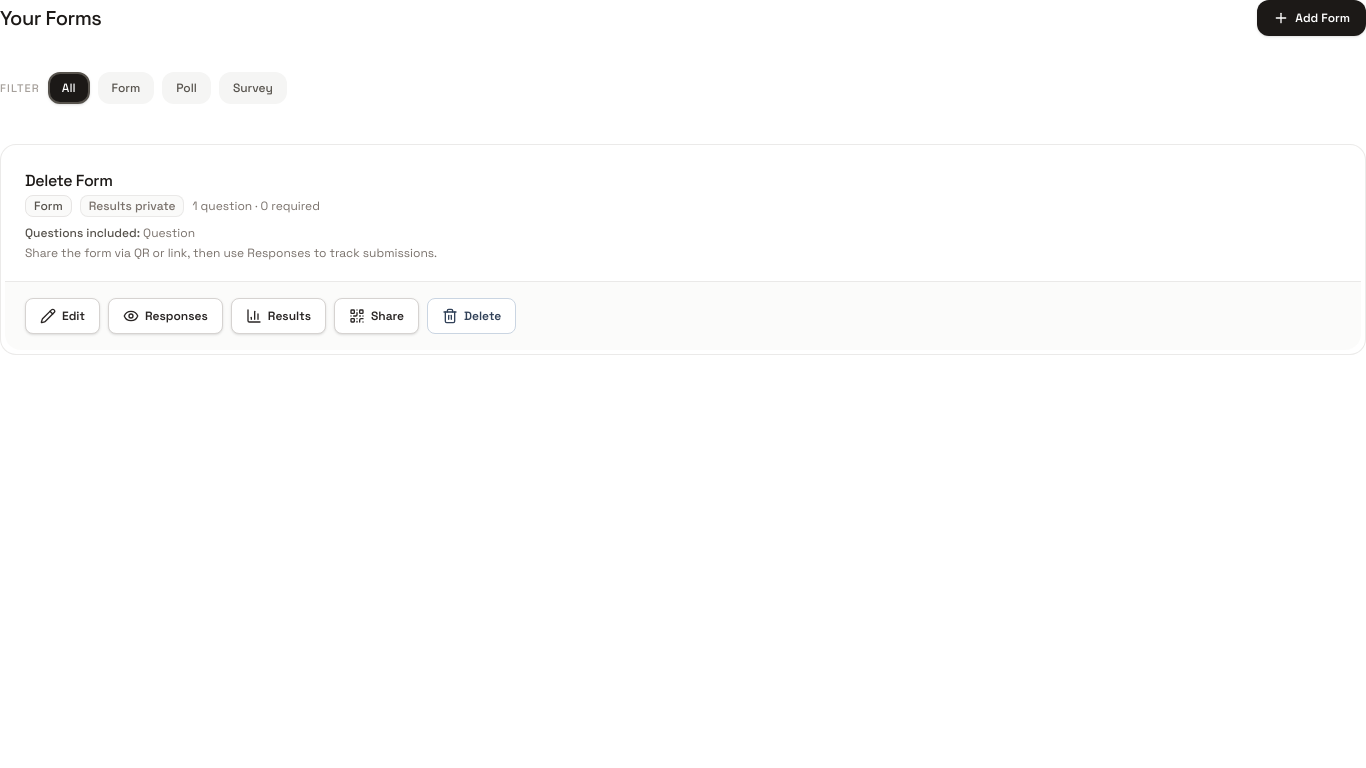
Test case: FormsPage › Delete button opens modal and deletes form on confirm
Expected: the text "Delete Form" is shown, [25,170,112,191]
Click the button "Delete" at (472, 316), box [427,298,516,334]
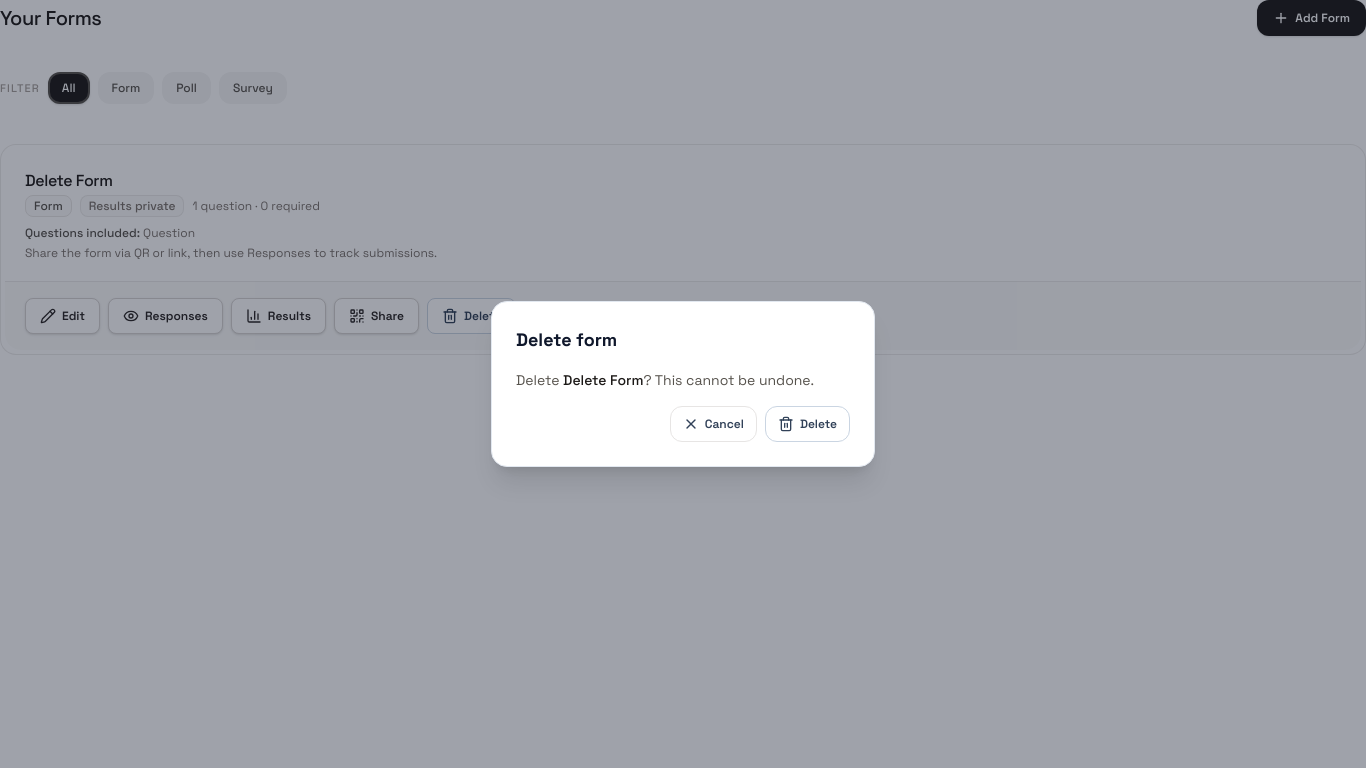
Now the dialog shows "Delete form", box [516,328,617,351]
Click the button "Delete" at (807, 424), box [765,406,850,442]
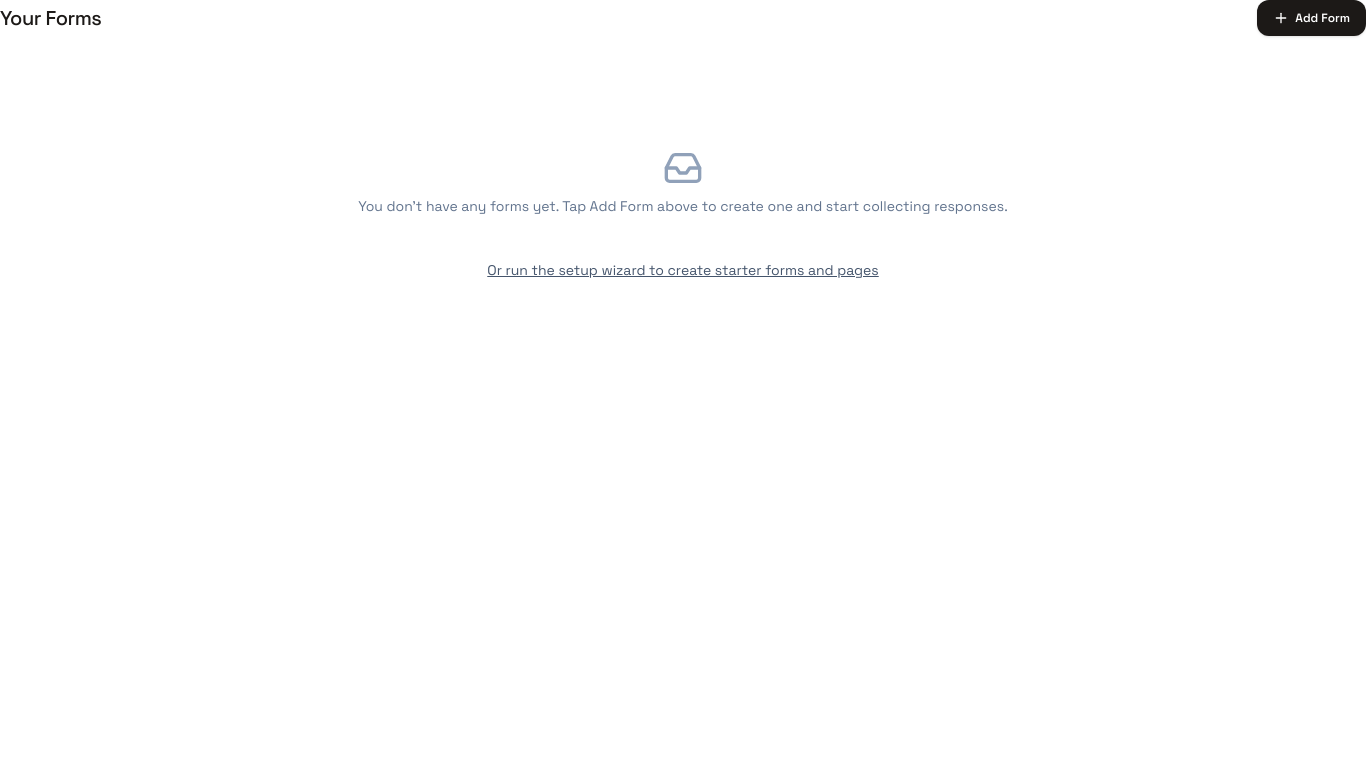
Now the text "Delete Form" is gone
